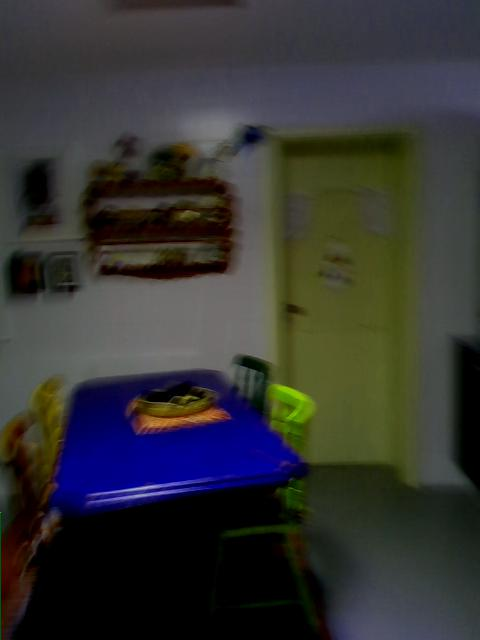closed_door: (262, 122, 416, 478)
